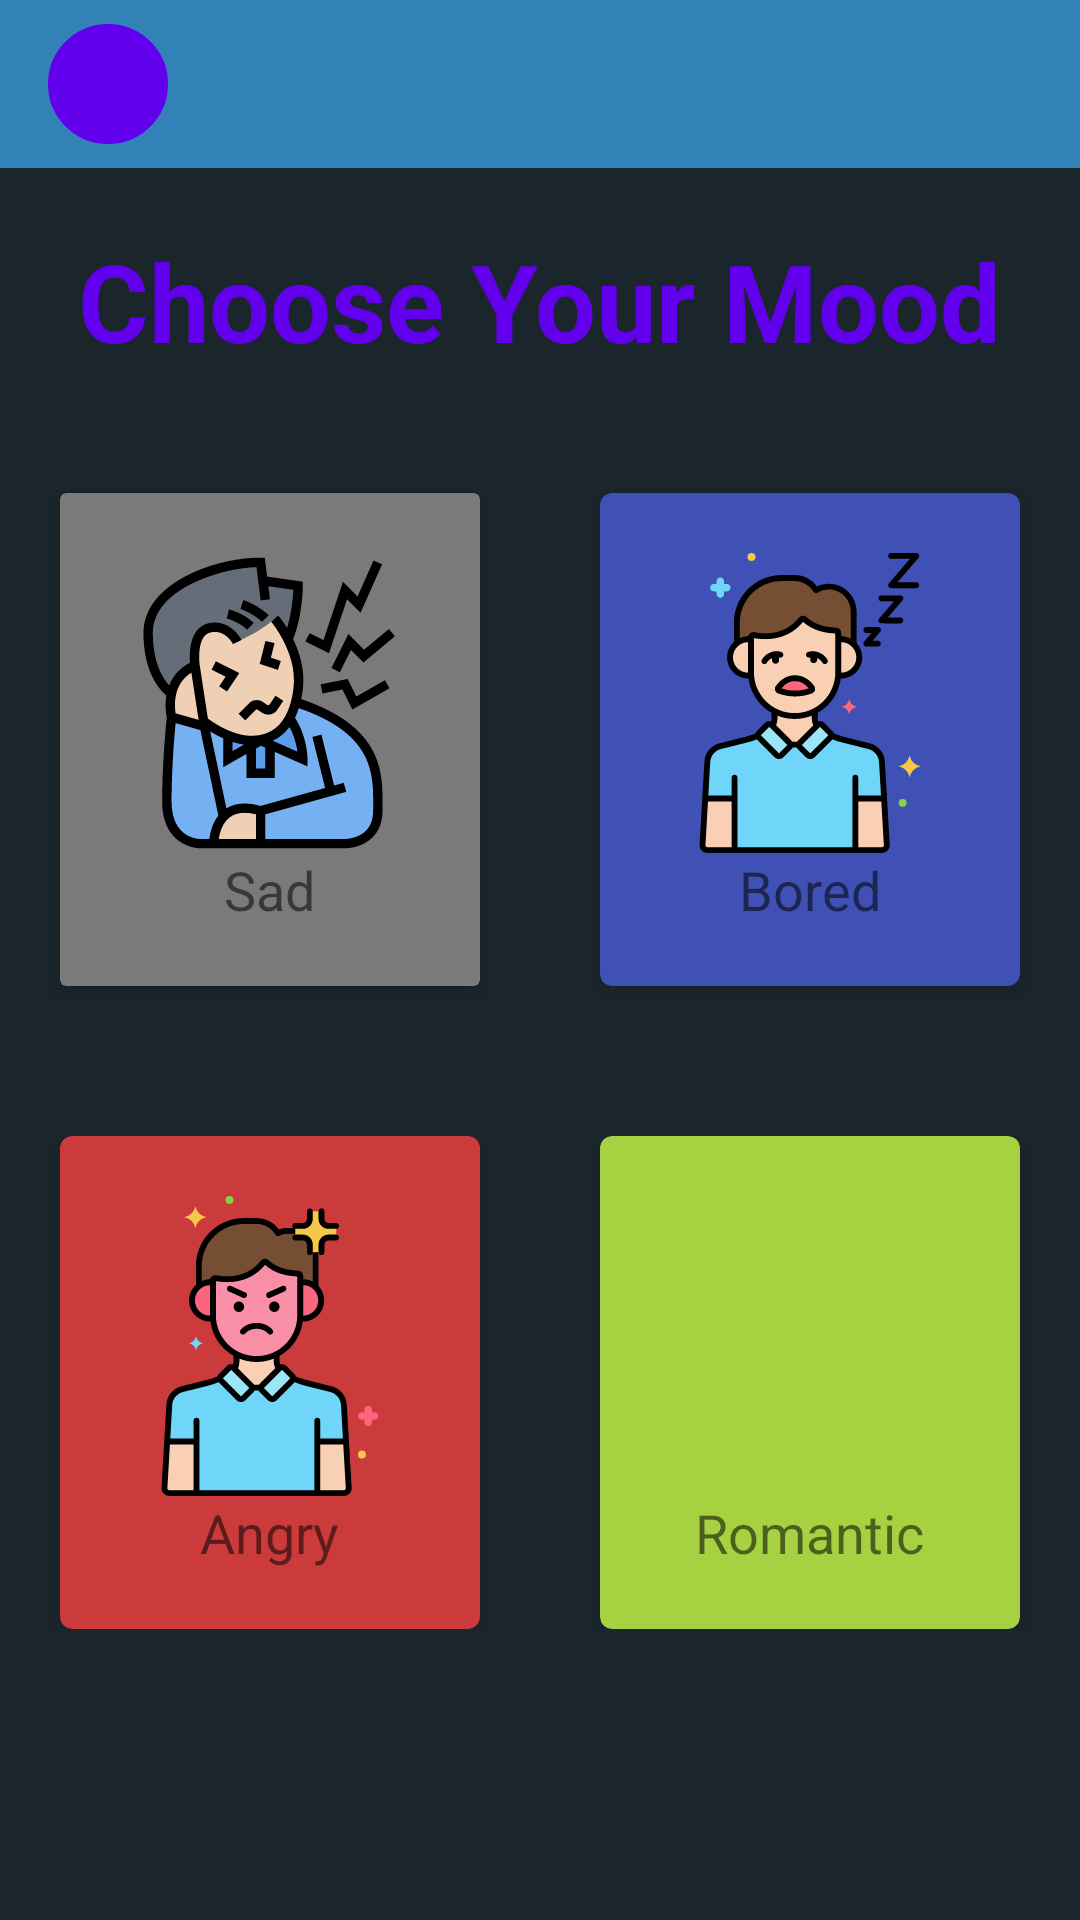

Point at icon controls on the screen. Image size 1080px×1920px, points as (x=x, y=y).
decreased concentration: (x=269, y=703)
